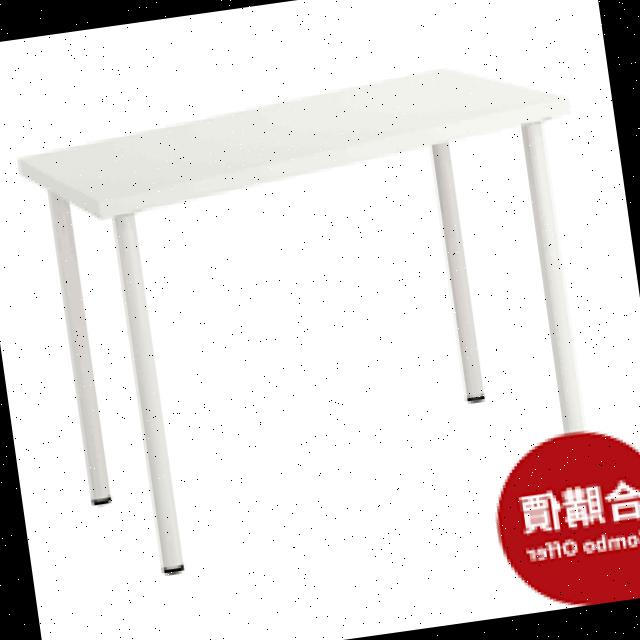Table: (0, 37, 628, 591)
